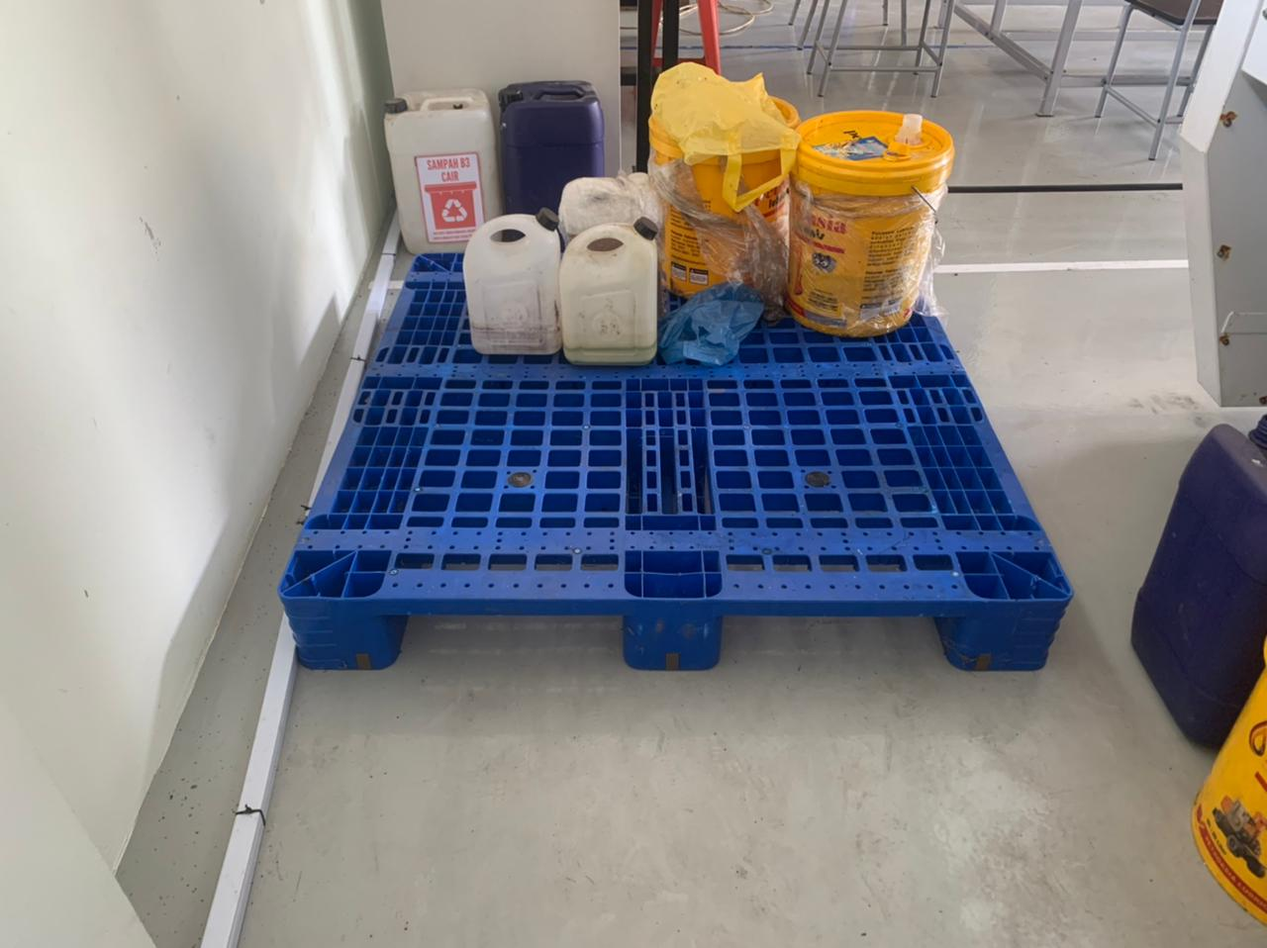block: (949, 599, 1073, 669), (282, 594, 392, 665), (619, 599, 726, 671)
front: (286, 599, 1069, 677)
hole pallet: (722, 619, 961, 669), (387, 613, 626, 662)
